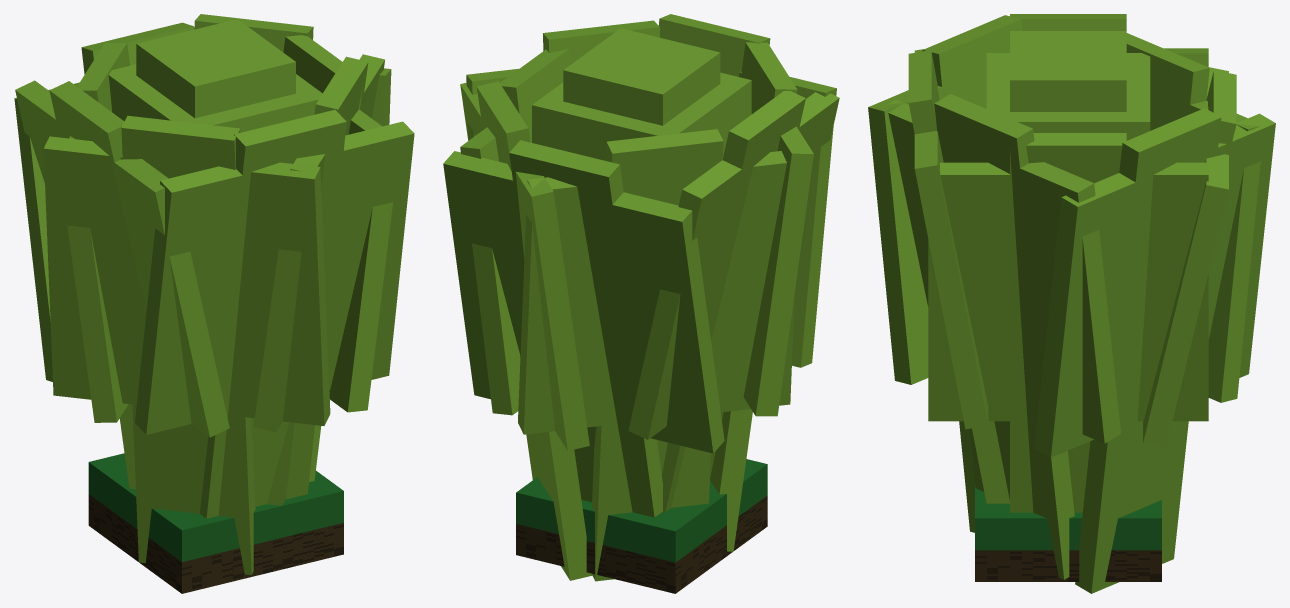
The model's file is lettuce.gltf.
3 renders of one model, left to right at view 1: azimuth 30°, elevation 25°; view 2: azimuth 150°, elevation 25°; view 3: azimuth 270°, elevation 25°, orthographic.
Parts seen in each view (by area): view 1: a7985ba0-5c5f-cb13-09c1-4077bd655a0d, 109e067f-7044-b9ac-b134-731f70819040, fbca2149-087c-93a6-9936-c27c55f00220, 2c472115-aecf-55bb-1079-051131a8bc27, 3ba38dc0-c53d-4de4-619f-f765bf2ed9cd, 3c0d928f-0d67-13c7-e106-da1e7089fdcf, dfa3b4a6-89e8-d27c-24e3-e5299da74170, efd6273c-aba6-debe-f27b-6f33033be7f0, 73e2029b-66b8-8a17-f23a-d61b88bd55d6, f40501d4-1429-7740-49d4-c7f0dbdf4efe, df7fd52a-61e0-497d-0bf7-f1d8e14a3dd6, 3e9e37a5-3ce0-8750-a50f-914dbbbf843e (+8 smaller); view 2: 8f23b5e1-e71d-31cb-96b7-6c0b07e0aedf, 3e9e37a5-3ce0-8750-a50f-914dbbbf843e, 5e8d7cec-d786-92fa-ef6a-eb02404b3f24, e74ec27e-bf76-8ac7-93b5-e792ab15c26a, 3ba38dc0-c53d-4de4-619f-f765bf2ed9cd, 3c0d928f-0d67-13c7-e106-da1e7089fdcf, 0ba61dbf-a39a-b9e2-a77d-fea74aee14a8, a7985ba0-5c5f-cb13-09c1-4077bd655a0d, dfa3b4a6-89e8-d27c-24e3-e5299da74170, df7fd52a-61e0-497d-0bf7-f1d8e14a3dd6, 8690b2cf-ff88-8a6c-5164-de518f45082f, efd6273c-aba6-debe-f27b-6f33033be7f0 (+8 smaller); view 3: 73e2029b-66b8-8a17-f23a-d61b88bd55d6, 0ba61dbf-a39a-b9e2-a77d-fea74aee14a8, 8690b2cf-ff88-8a6c-5164-de518f45082f, f40501d4-1429-7740-49d4-c7f0dbdf4efe, 883568ed-31c0-374b-2c40-81b076083bad, 3c0d928f-0d67-13c7-e106-da1e7089fdcf, a7985ba0-5c5f-cb13-09c1-4077bd655a0d, 8f23b5e1-e71d-31cb-96b7-6c0b07e0aedf, 109e067f-7044-b9ac-b134-731f70819040, 2ce741f4-fe3b-09fd-6b25-078f2a8ad77e, 3e9e37a5-3ce0-8750-a50f-914dbbbf843e, df7fd52a-61e0-497d-0bf7-f1d8e14a3dd6 (+7 smaller).
Part boxes in pixels (x1,y1,x2,y2): a7985ba0-5c5f-cb13-09c1-4077bd655a0d: [43, 136, 330, 425]; 109e067f-7044-b9ac-b134-731f70819040: [135, 121, 414, 434]; fbca2149-087c-93a6-9936-c27c55f00220: [121, 115, 255, 575]; 2c472115-aecf-55bb-1079-051131a8bc27: [199, 110, 346, 518]; 3ba38dc0-c53d-4de4-619f-f765bf2ed9cd: [15, 80, 229, 437]; 3c0d928f-0d67-13c7-e106-da1e7089fdcf: [136, 19, 295, 118]; dfa3b4a6-89e8-d27c-24e3-e5299da74170: [88, 453, 343, 561]; efd6273c-aba6-debe-f27b-6f33033be7f0: [88, 494, 343, 593]; 73e2029b-66b8-8a17-f23a-d61b88bd55d6: [329, 110, 392, 412]; f40501d4-1429-7740-49d4-c7f0dbdf4efe: [253, 54, 384, 432]; df7fd52a-61e0-497d-0bf7-f1d8e14a3dd6: [108, 64, 322, 132]; 3e9e37a5-3ce0-8750-a50f-914dbbbf843e: [67, 107, 128, 422]; 8f23b5e1-e71d-31cb-96b7-6c0b07e0aedf: [443, 151, 724, 453]; 3e9e37a5-3ce0-8750-a50f-914dbbbf843e: [518, 151, 794, 434]; 5e8d7cec-d786-92fa-ef6a-eb02404b3f24: [509, 140, 662, 517]; e74ec27e-bf76-8ac7-93b5-e792ab15c26a: [592, 129, 723, 581]; 3ba38dc0-c53d-4de4-619f-f765bf2ed9cd: [628, 92, 839, 439]; 3c0d928f-0d67-13c7-e106-da1e7089fdcf: [563, 28, 720, 125]; 0ba61dbf-a39a-b9e2-a77d-fea74aee14a8: [460, 82, 589, 450]; a7985ba0-5c5f-cb13-09c1-4077bd655a0d: [739, 71, 813, 416]; dfa3b4a6-89e8-d27c-24e3-e5299da74170: [516, 459, 767, 562]; df7fd52a-61e0-497d-0bf7-f1d8e14a3dd6: [532, 72, 751, 160]; 8690b2cf-ff88-8a6c-5164-de518f45082f: [476, 81, 592, 580]; efd6273c-aba6-debe-f27b-6f33033be7f0: [516, 495, 767, 593]; 73e2029b-66b8-8a17-f23a-d61b88bd55d6: [928, 162, 1208, 421]; 0ba61dbf-a39a-b9e2-a77d-fea74aee14a8: [1034, 113, 1275, 457]; 8690b2cf-ff88-8a6c-5164-de518f45082f: [1075, 108, 1221, 593]; f40501d4-1429-7740-49d4-c7f0dbdf4efe: [888, 99, 1120, 443]; 883568ed-31c0-374b-2c40-81b076083bad: [934, 94, 1074, 579]; 3c0d928f-0d67-13c7-e106-da1e7089fdcf: [1010, 31, 1126, 111]; a7985ba0-5c5f-cb13-09c1-4077bd655a0d: [868, 71, 985, 384]; 8f23b5e1-e71d-31cb-96b7-6c0b07e0aedf: [1143, 67, 1228, 447]; 109e067f-7044-b9ac-b134-731f70819040: [914, 49, 988, 429]; 2ce741f4-fe3b-09fd-6b25-078f2a8ad77e: [1010, 133, 1126, 512]; 3e9e37a5-3ce0-8750-a50f-914dbbbf843e: [1150, 95, 1260, 402]; df7fd52a-61e0-497d-0bf7-f1d8e14a3dd6: [986, 53, 1150, 140].
Size of the model in its own units: 0.2184 by 0.2943 by 0.2184.
Materials: 3 (3 with a texture image).
